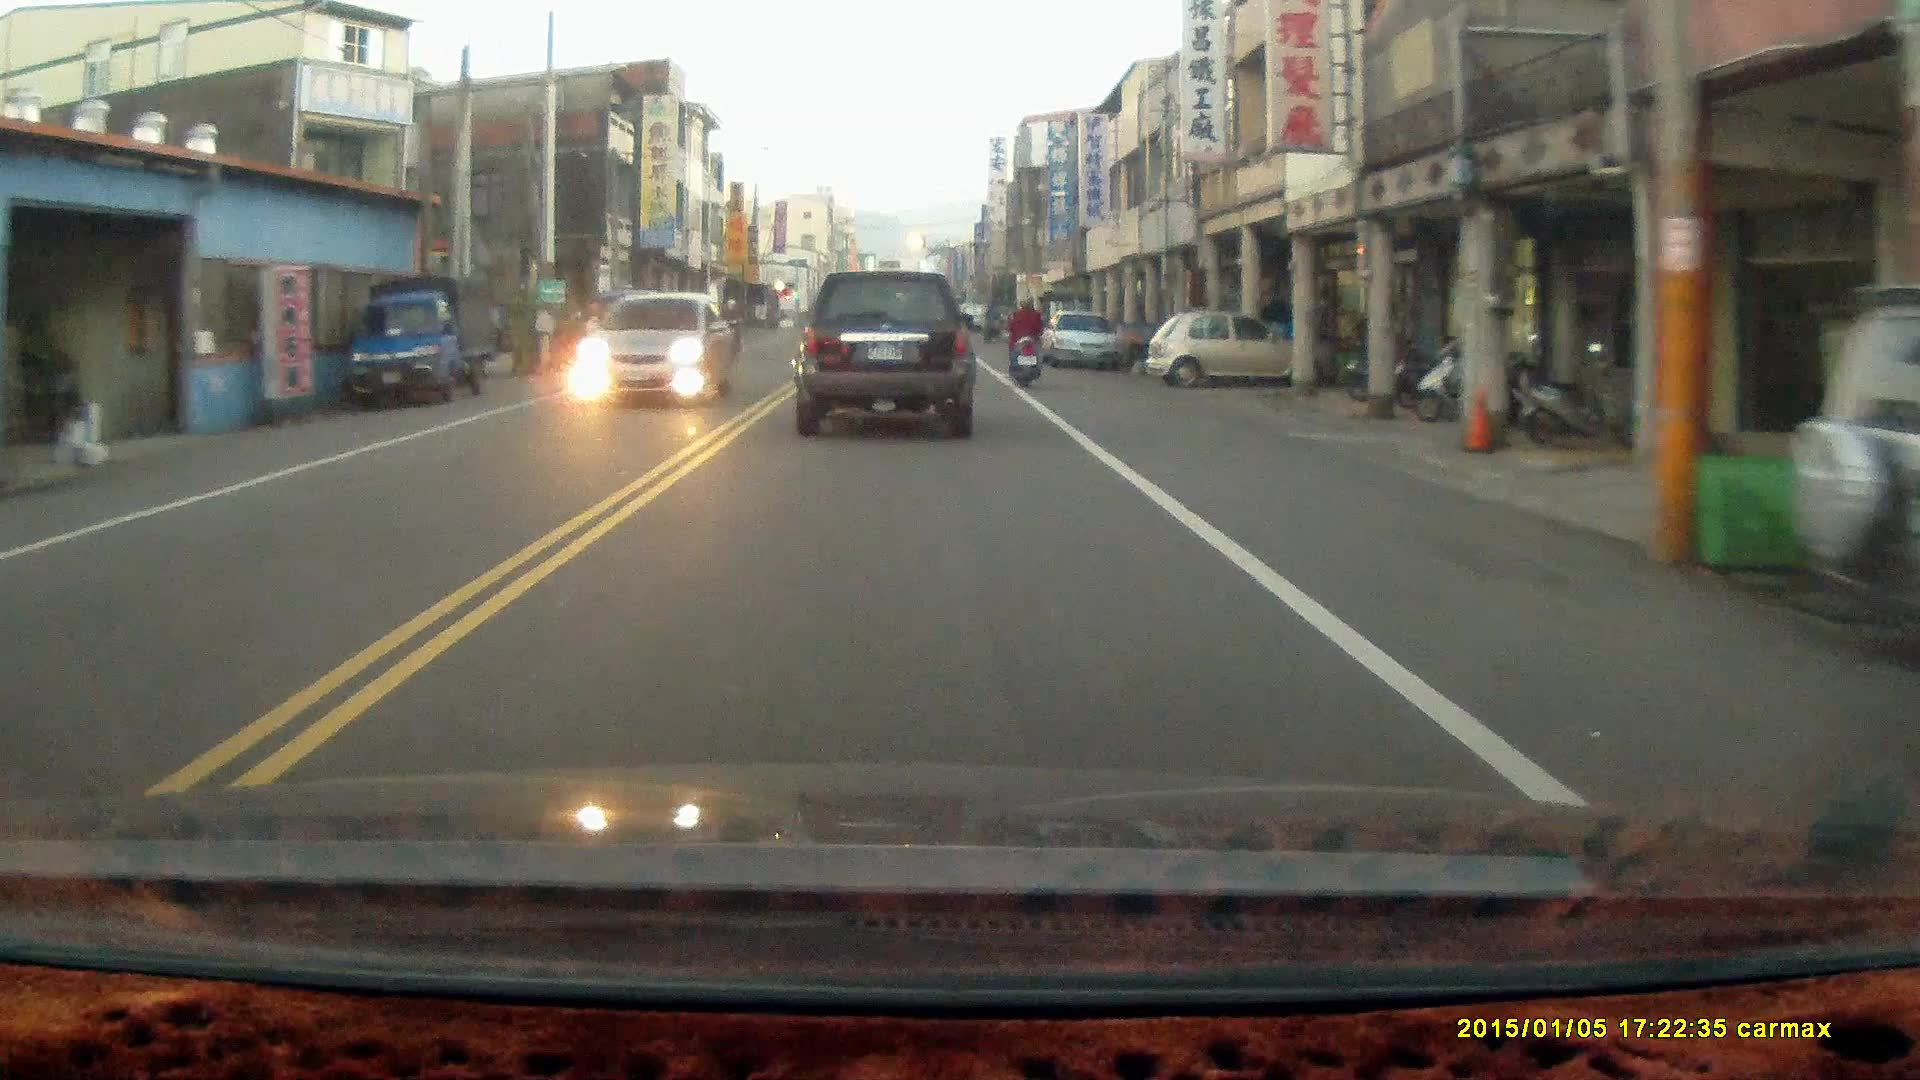rider: (1005, 291, 1042, 386)
vehicle: (1782, 276, 1919, 682), (790, 263, 977, 435), (350, 269, 505, 410), (580, 289, 739, 410), (1149, 305, 1316, 388), (1044, 309, 1129, 369)
